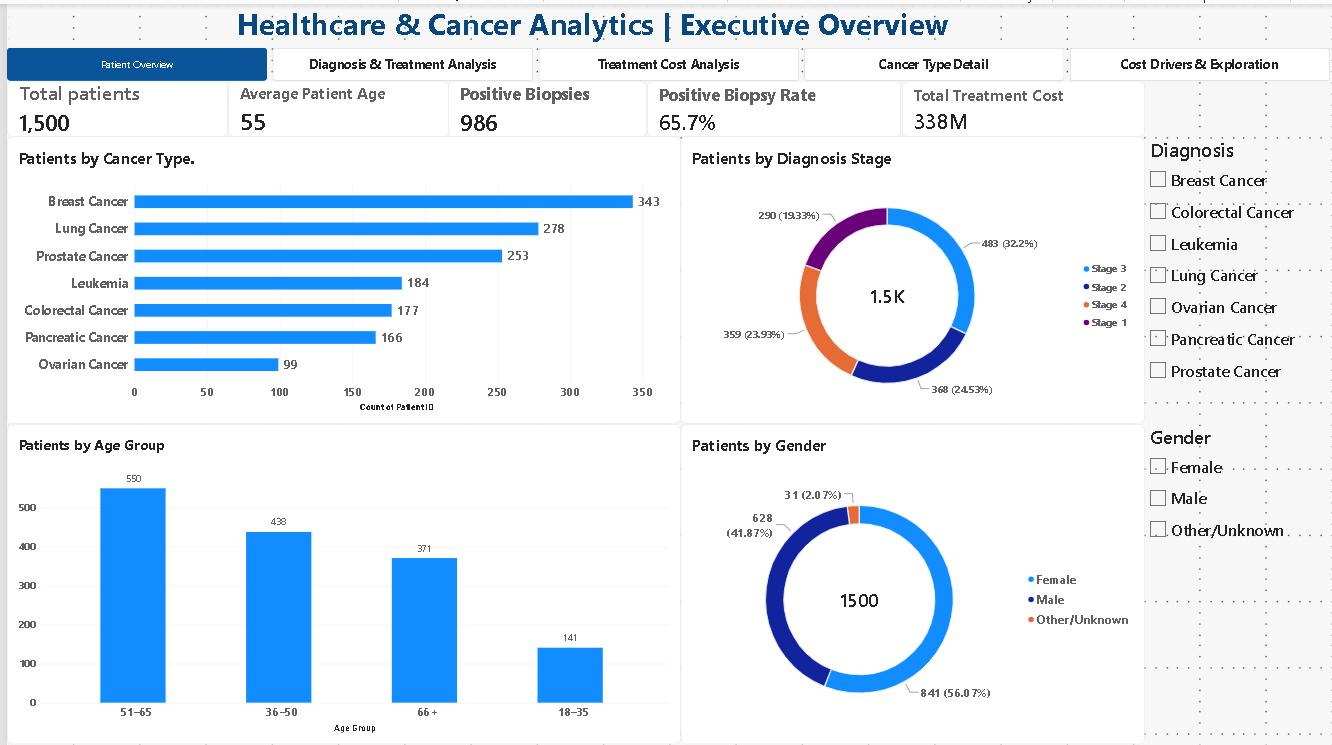

Layout of this report page (visuals, bound fields, positions):
{"tool":"powerbi","page":{"name":"Patient Overview","canvas":[1920,1080],"ordinal":0},"visuals":[{"type":"cardVisual","fields":{"Data":["Count(Patient Data.Patient ID)"]},"box":[0,112,320,80],"z":0},{"type":"cardVisual","fields":{"Data":["Avg(Patient Data.Age)"]},"box":[320,112,320,80],"z":1000},{"type":"cardVisual","fields":{"Data":["Count(Patient Data.Patient ID)"]},"box":[640,112,288,80],"z":2000},{"type":"cardVisual","fields":{"Data":["Sum(Patient Data.Treatment Cost (INR))"]},"box":[1296,112,352,80],"z":3000},{"type":"clusteredBarChart","title":"Patients by Cancer Type.","fields":{"Category":["Patient Data.Diagnosis"],"Y":["CountNonNull(Patient Data.Patient ID)"]},"box":[0,192,976,416],"z":4000},{"type":"clusteredColumnChart","title":"Patients by Age Group","fields":{"Category":["Patient Data.Age Group"],"Y":["Count(Patient Data.Patient ID)"]},"box":[0,608,976,464],"z":5000},{"type":"donutChart","title":"Patients by Gender ","fields":{"Category":["Patient Data.Gender"],"Y":["CountNonNull(Patient Data.Patient ID)"]},"box":[976,608,672,464],"z":6000},{"type":"slicer","fields":{"Values":["Patient Data.Diagnosis"]},"box":[1648,192,272,400],"z":7000},{"type":"slicer","fields":{"Values":["Patient Data.Gender"]},"box":[1648,608,272,224],"z":9000},{"type":"donutChart","title":"Patients by Diagnosis Stage","fields":{"Category":["Patient Data.Diagnosis Stage"],"Y":["CountNonNull(Patient Data.Patient ID)"]},"box":[976,192,672,416],"z":10000},{"type":"cardVisual","fields":{"Data":["Patient Data.Positive Biopsy %"]},"box":[928,112,368,80],"z":11000},{"type":"textbox","box":[96,0,1504,64],"z":12000},{"type":"pageNavigator","box":[0,64,1920,48],"z":12001}]}

Visuals, with their boxes in screenshot pixels (x1, y1, x2, y2), scaled from the page's 1920x1080 canvas onto the 1332x745 screenshot:
cardVisual - Count(Patient Data.Patient ID): 0, 77, 222, 132
cardVisual - Avg(Patient Data.Age): 222, 77, 444, 132
cardVisual - Count(Patient Data.Patient ID): 444, 77, 644, 132
cardVisual - Sum(Patient Data.Treatment Cost (INR)): 899, 77, 1143, 132
"Patients by Cancer Type." clusteredBarChart: 0, 132, 677, 419
"Patients by Age Group" clusteredColumnChart: 0, 419, 677, 739
"Patients by Gender " donutChart: 677, 419, 1143, 739
slicer - Patient Data.Diagnosis: 1143, 132, 1331, 408
slicer - Patient Data.Gender: 1143, 419, 1331, 574
"Patients by Diagnosis Stage" donutChart: 677, 132, 1143, 419
cardVisual - Patient Data.Positive Biopsy %: 644, 77, 899, 132
textbox: 67, 0, 1110, 44
pageNavigator: 0, 44, 1331, 77
